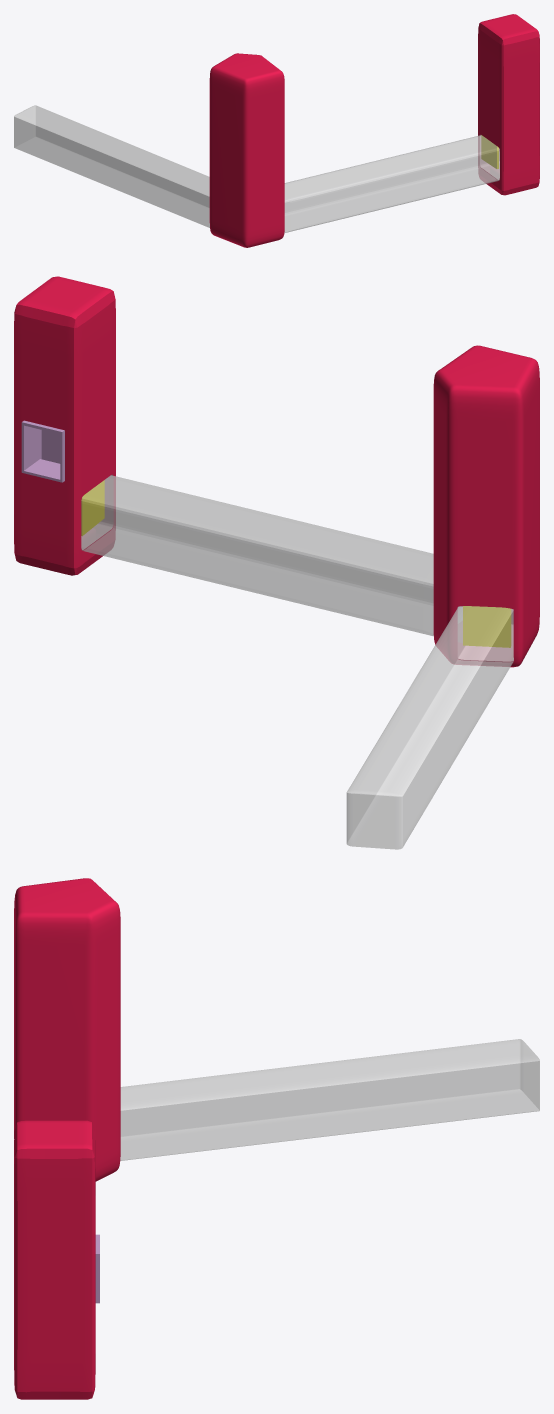
File: C belt conveyor.fbx
The picture shows the model from 3 angles, top to bottom: view 1: azimuth 30°, elevation 25°; view 2: azimuth 150°, elevation 25°; view 3: azimuth 270°, elevation 25°; orthographic projection. The views are drawn at different scales.
Parts seen in each view (by area): view 1: tunnel, tower01, tower02, shutter02; view 2: tunnel, tower01, tower02, shutter01, frame01, shutter02; view 3: tunnel, tower01, tower02.
Part boxes in pixels (box(x1,y1,x2,y2)): tunnel: box(14, 105, 499, 233); tower01: box(209, 53, 284, 247); tower02: box(478, 14, 539, 195); shutter02: box(481, 135, 498, 168); tunnel: box(81, 475, 513, 849); tower01: box(433, 345, 539, 667); tower02: box(14, 276, 115, 575); shutter01: box(463, 606, 511, 647); frame01: box(21, 420, 64, 482); shutter02: box(81, 480, 104, 535); tunnel: box(120, 1039, 539, 1160); tower01: box(14, 878, 120, 1181); tower02: box(14, 1120, 95, 1399).
Bounding box in the file's own units: 38.46 × 17.81 × 29.6.
